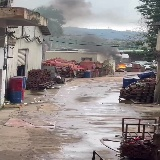fire: (118, 64, 126, 68)
